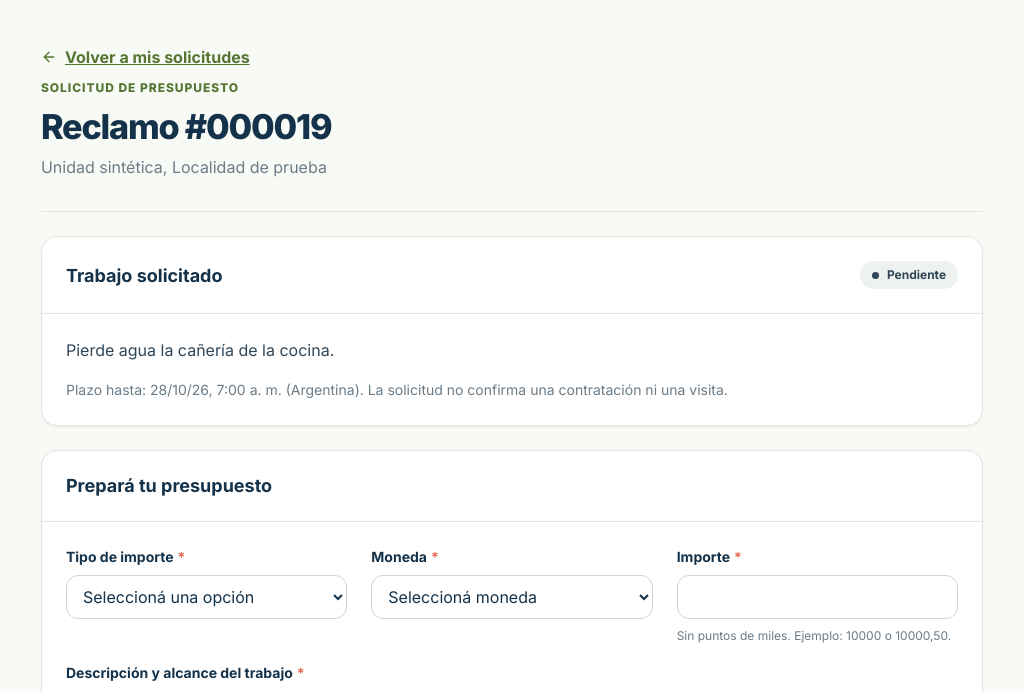
it: formulario del proveedor › revisa y confirma importe exacto sin contratar
This screenshot has width=1024, height=692.
Select "Importe exacto" in the dropdown labelled "Tipo de importe*": (207, 597) [66,575,347,619]
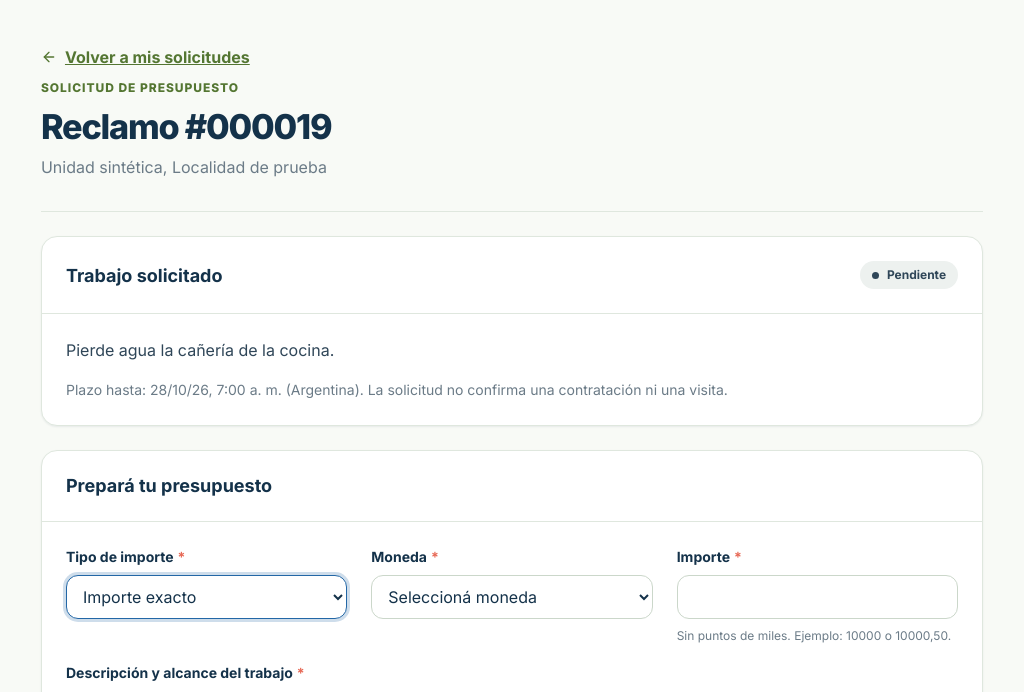
Select "Pesos argentinos (ARS)" in the dropdown labelled "Moneda*": (512, 597) [371,575,653,619]
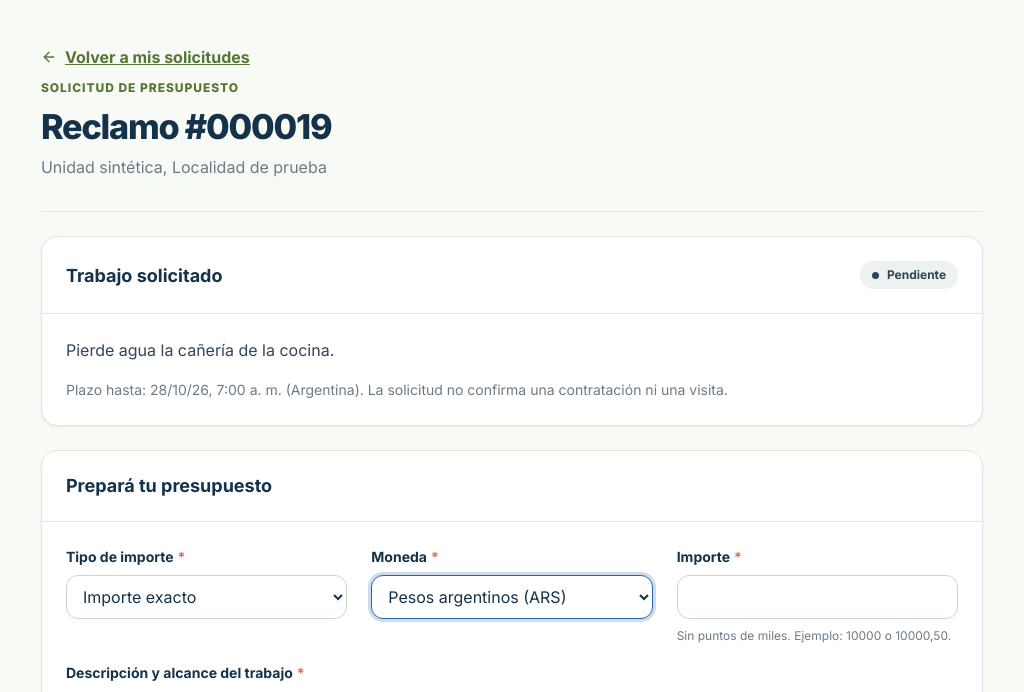
In the field labelled "Importe*": (817, 597) [677,575,958,619], type "10000,50"
(page scrolled)
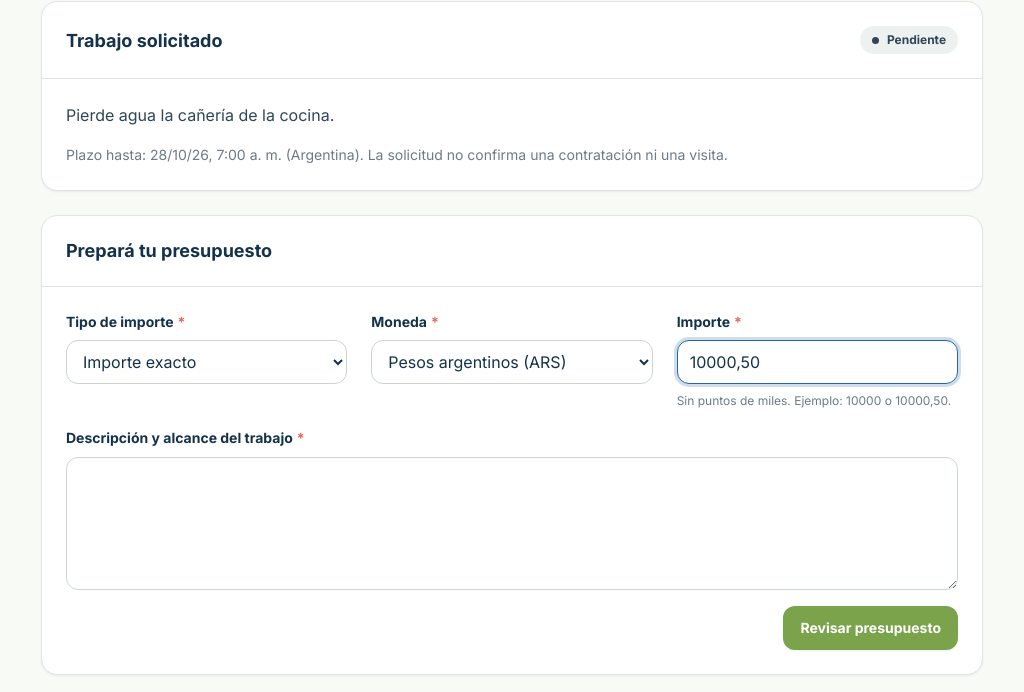
In the text box labelled "Descripción y alcance del trabajo*": (512, 523) [66,456,958,590], type "Reparación de cañería con materiales"
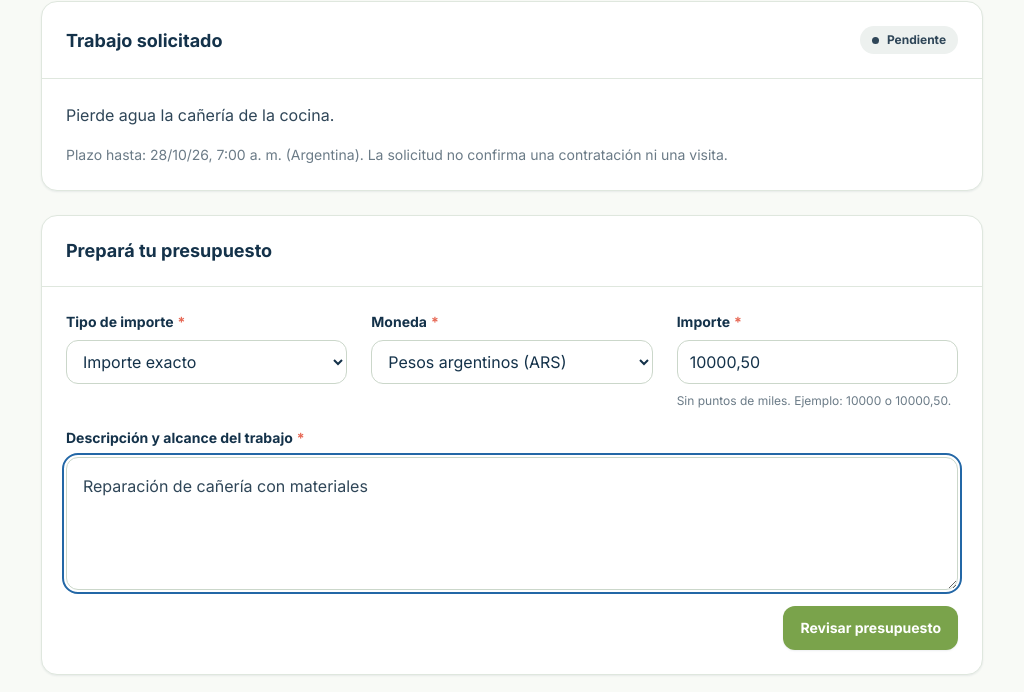
Click the button "Revisar presupuesto": (871, 628) [783,606,958,650]
(page scrolled)
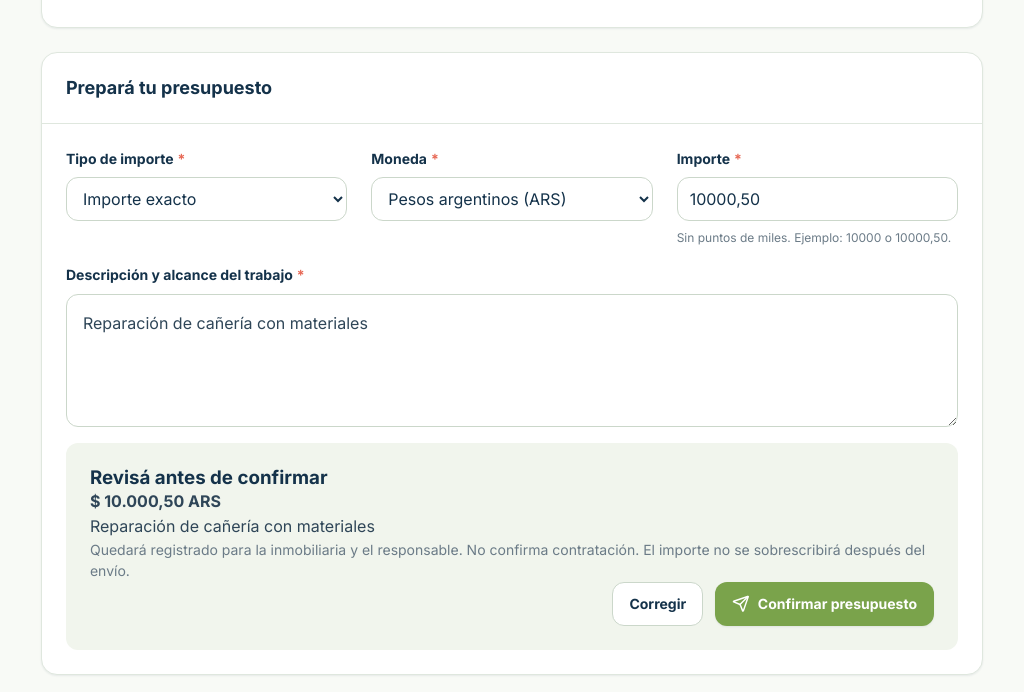
Expected: the heading "Revisá antes de confirmar" is shown, [90,466,328,489]
Click the button "Confirmar presupuesto": (825, 604) [715,582,934,626]
(page scrolled)
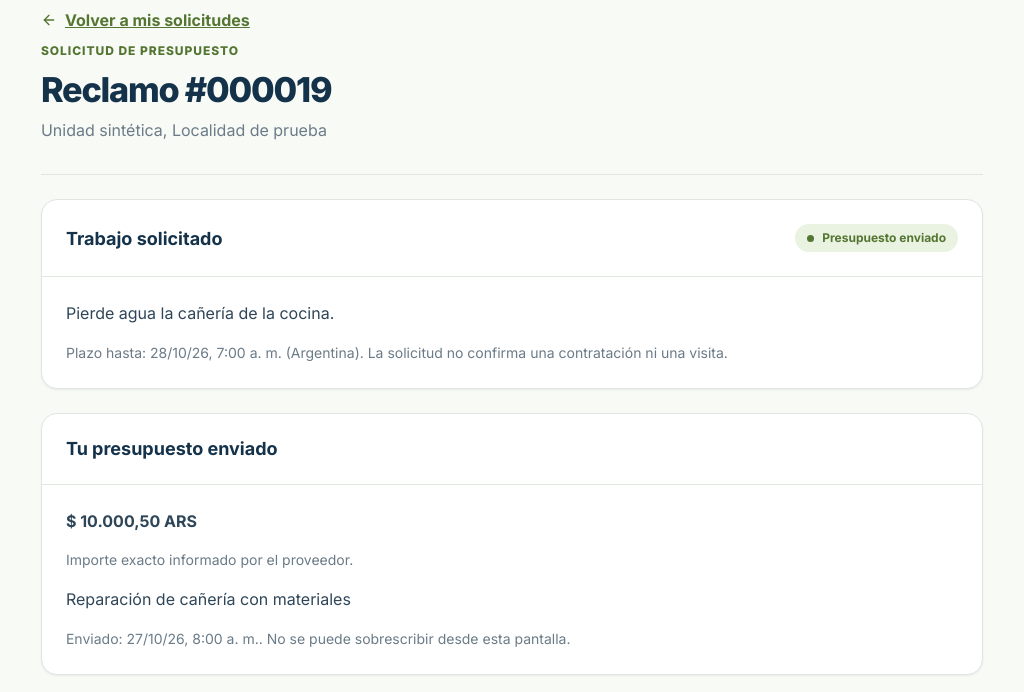
Expected: the heading "Tu presupuesto enviado" is shown, [66,438,278,460]
Expected: the button "Confirmar presupuesto" is gone
